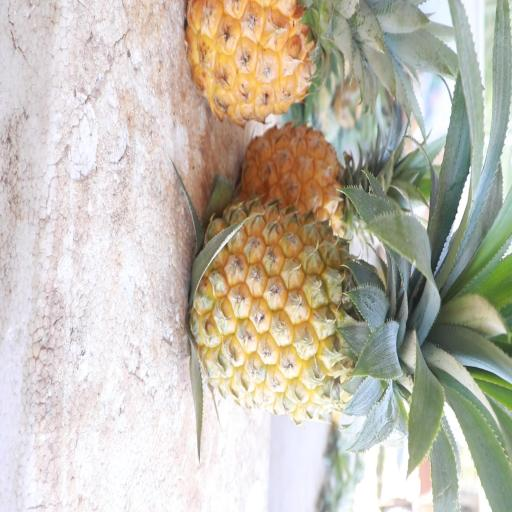Pineapple - v8 v1: (184, 211, 425, 447), (181, 0, 375, 162), (233, 117, 376, 257), (244, 98, 244, 99)
